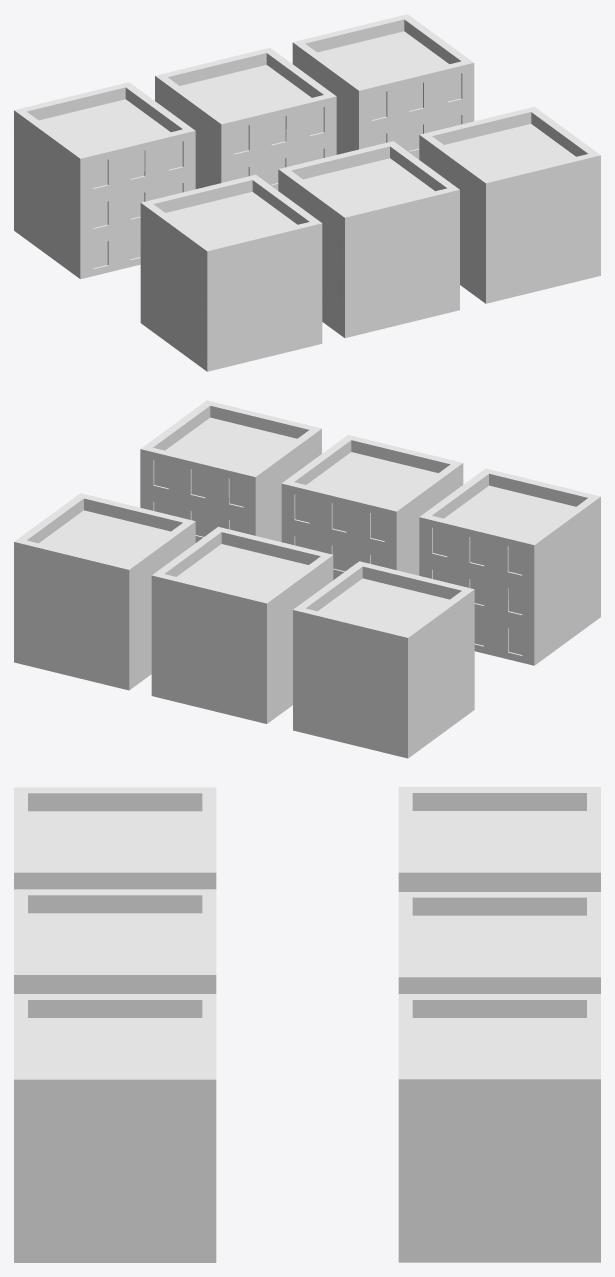
File: alw.obj
The picture shows the model from 3 angles, top to bottom: view 1: azimuth 30°, elevation 25°; view 2: azimuth 150°, elevation 25°; view 3: azimuth 270°, elevation 25°; orthographic projection. The views are drawn at different scales.
Parts seen in each view (by area): view 1: Buil_006, Buil_003, Buil_004, Buil_005, Buil_001, Buil_002; view 2: Buil_003, Buil_006, Buil_001, Buil_002, Buil_004, Buil_005; view 3: Buil_004, Buil_002, Buil_005, Buil_003, Buil_006, Buil_001.
Part boxes in pixels (x1,y1,x2,y2): Buil_006: (140, 174, 322, 371); Buil_003: (14, 82, 195, 279); Buil_004: (419, 106, 600, 303); Buil_005: (278, 141, 459, 337); Buil_001: (155, 48, 336, 190); Buil_002: (292, 14, 474, 159); Buil_003: (293, 561, 474, 758); Buil_006: (419, 468, 600, 665); Buil_001: (151, 526, 333, 723); Buil_002: (14, 493, 195, 690); Buil_004: (140, 400, 321, 542); Buil_005: (281, 435, 463, 579); Buil_004: (14, 994, 216, 1262); Buil_002: (398, 994, 600, 1262); Buil_005: (14, 889, 216, 993); Buil_003: (398, 787, 600, 891); Buil_006: (14, 787, 216, 889); Buil_001: (398, 892, 600, 993).
Size of the model in its own units: 661 by 193 by 561.
